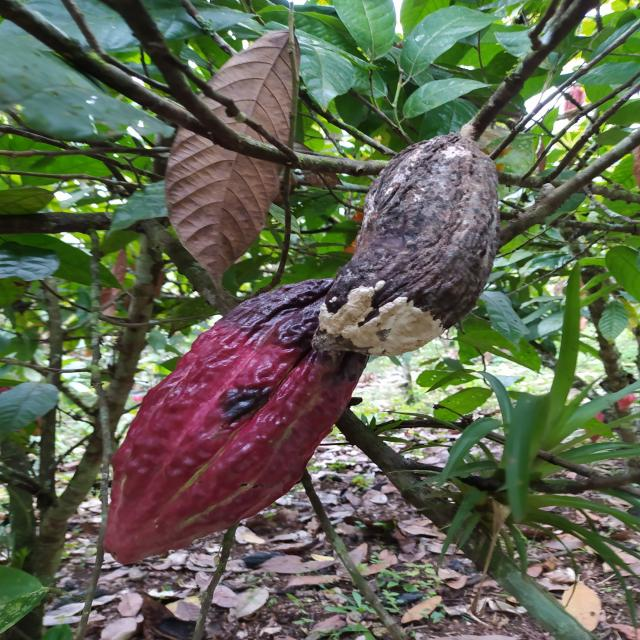Fitoftora: (102, 276, 370, 565)
Monilia: (316, 131, 499, 354)
